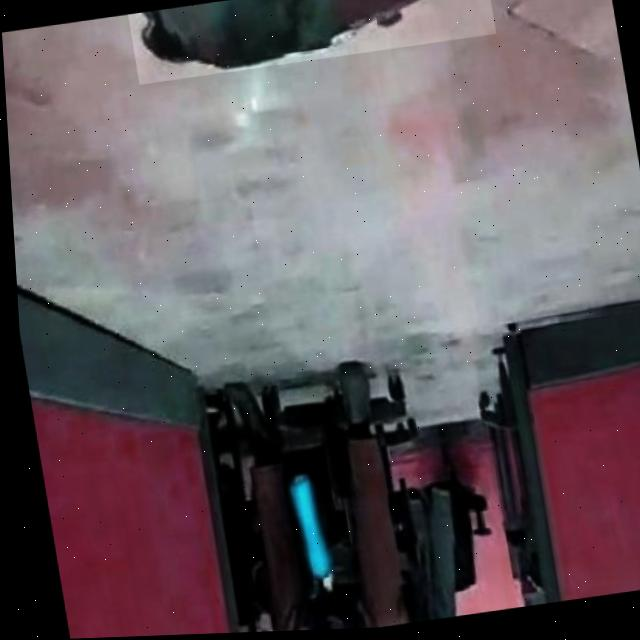spillage: (127, 0, 451, 73)
